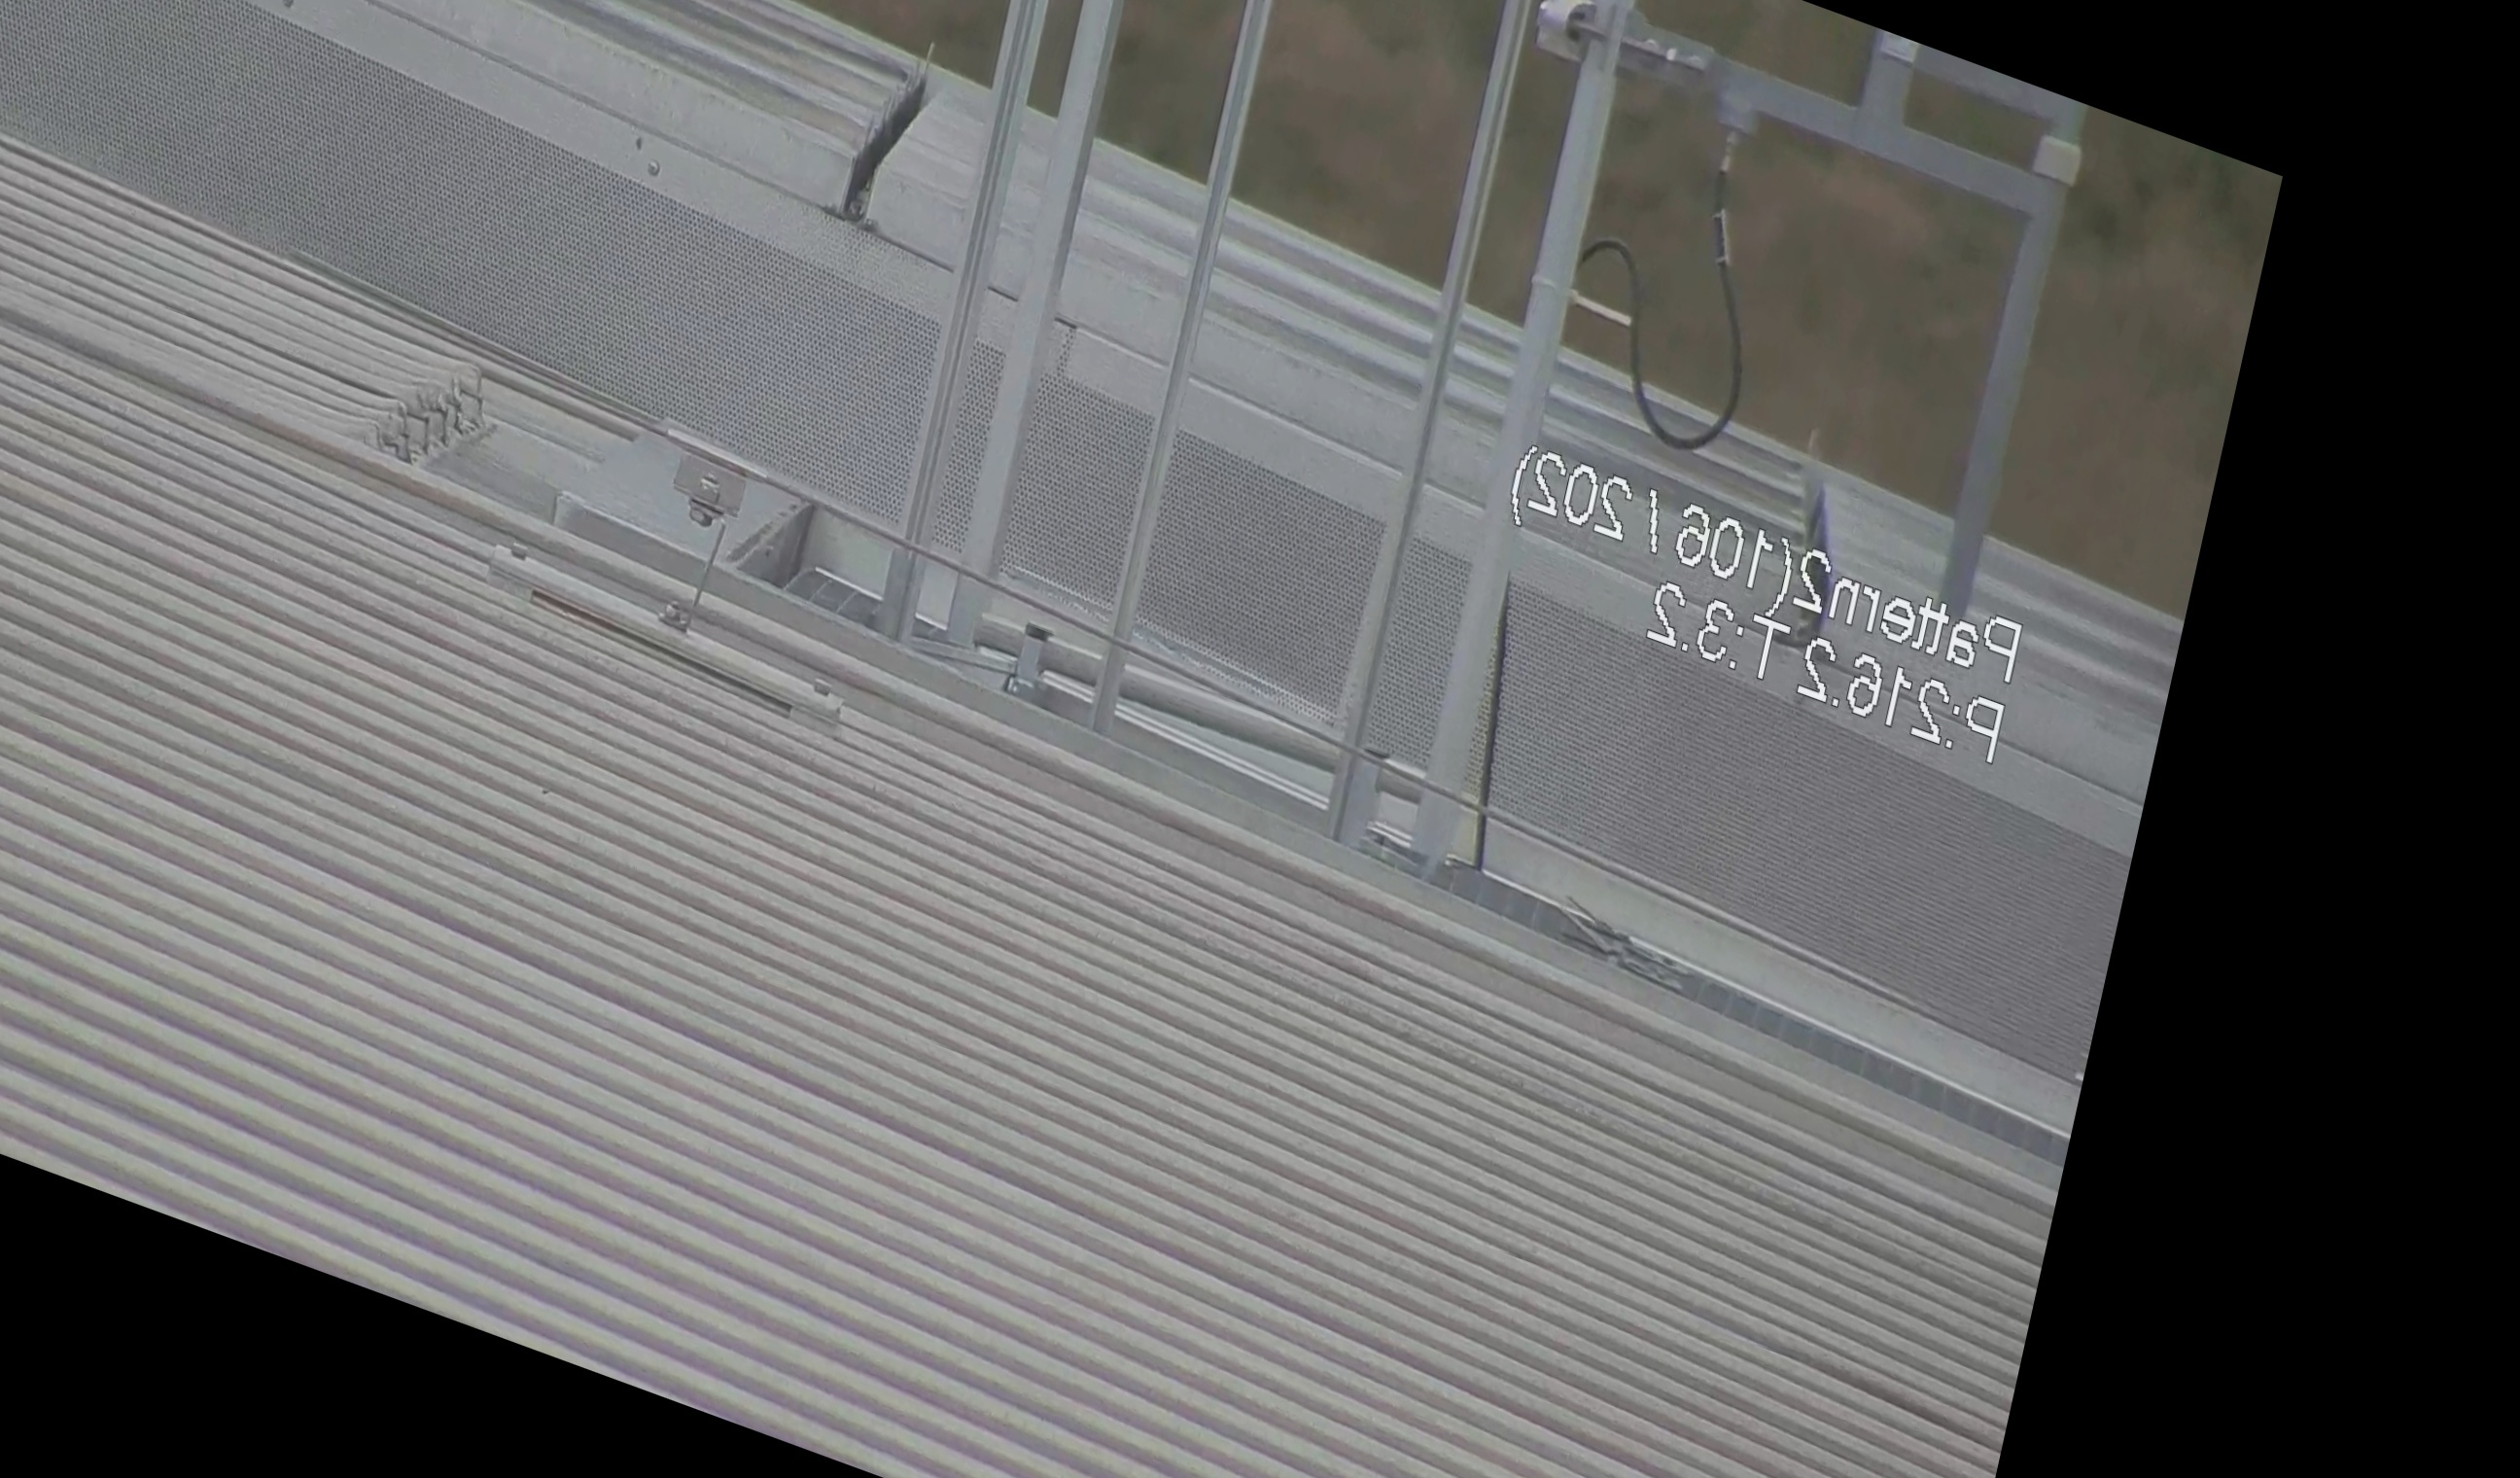Other: (819, 0, 974, 260)
